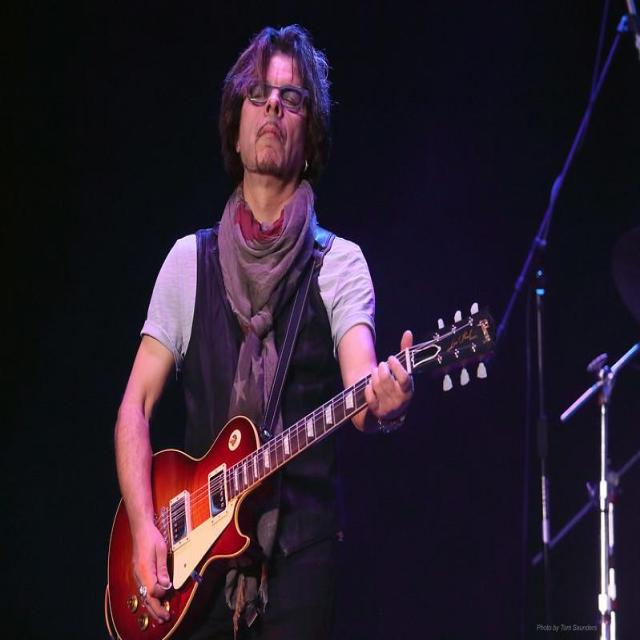guitar: (107, 376, 370, 639)
